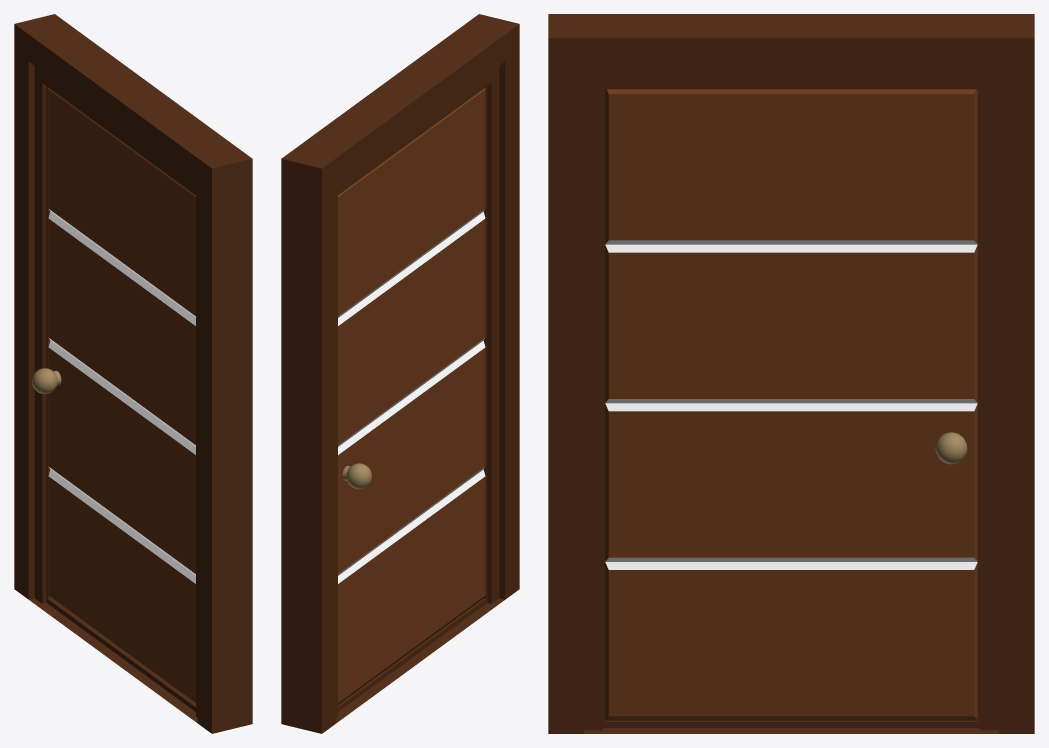
File: DoorLPbrown.fbx
The picture shows the model from 3 angles, left to right: view 1: azimuth 30°, elevation 25°; view 2: azimuth 150°, elevation 25°; view 3: azimuth 270°, elevation 25°; orthographic projection. The views are drawn at different scales.
Parts seen in each view (by area): view 1: Cube.003, Cube.002, Sphere.001; view 2: Cube.003, Cube.002, Sphere.001; view 3: Cube.003, Cube.002, Sphere.001.
Boxes of the visible parts, bbox=[...] form: Cube.003: bbox=[48, 88, 195, 704]; Cube.002: bbox=[14, 14, 252, 733]; Sphere.001: bbox=[32, 368, 61, 393]; Cube.003: bbox=[338, 88, 485, 704]; Cube.002: bbox=[281, 14, 519, 733]; Sphere.001: bbox=[342, 463, 371, 489]; Cube.003: bbox=[605, 89, 977, 720]; Cube.002: bbox=[548, 14, 1034, 733]; Sphere.001: bbox=[935, 432, 967, 464].
Size of the model in its own units: 240 by 1855 by 1176.
